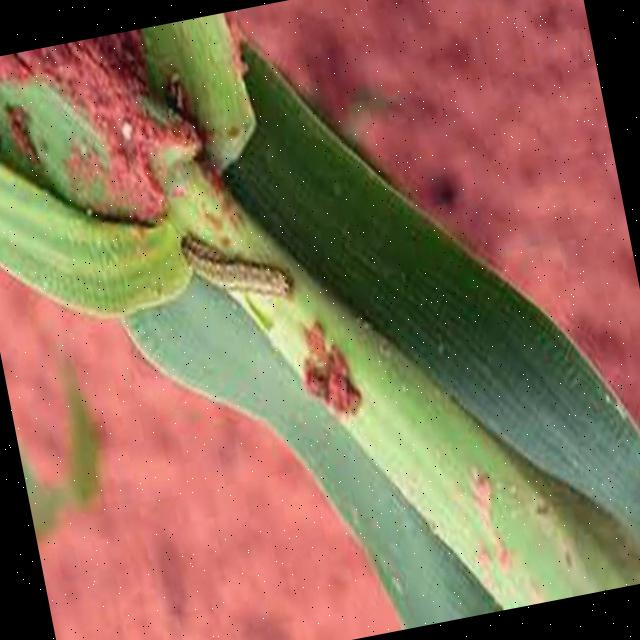worm: (1, 1, 640, 640), (178, 217, 297, 319)
